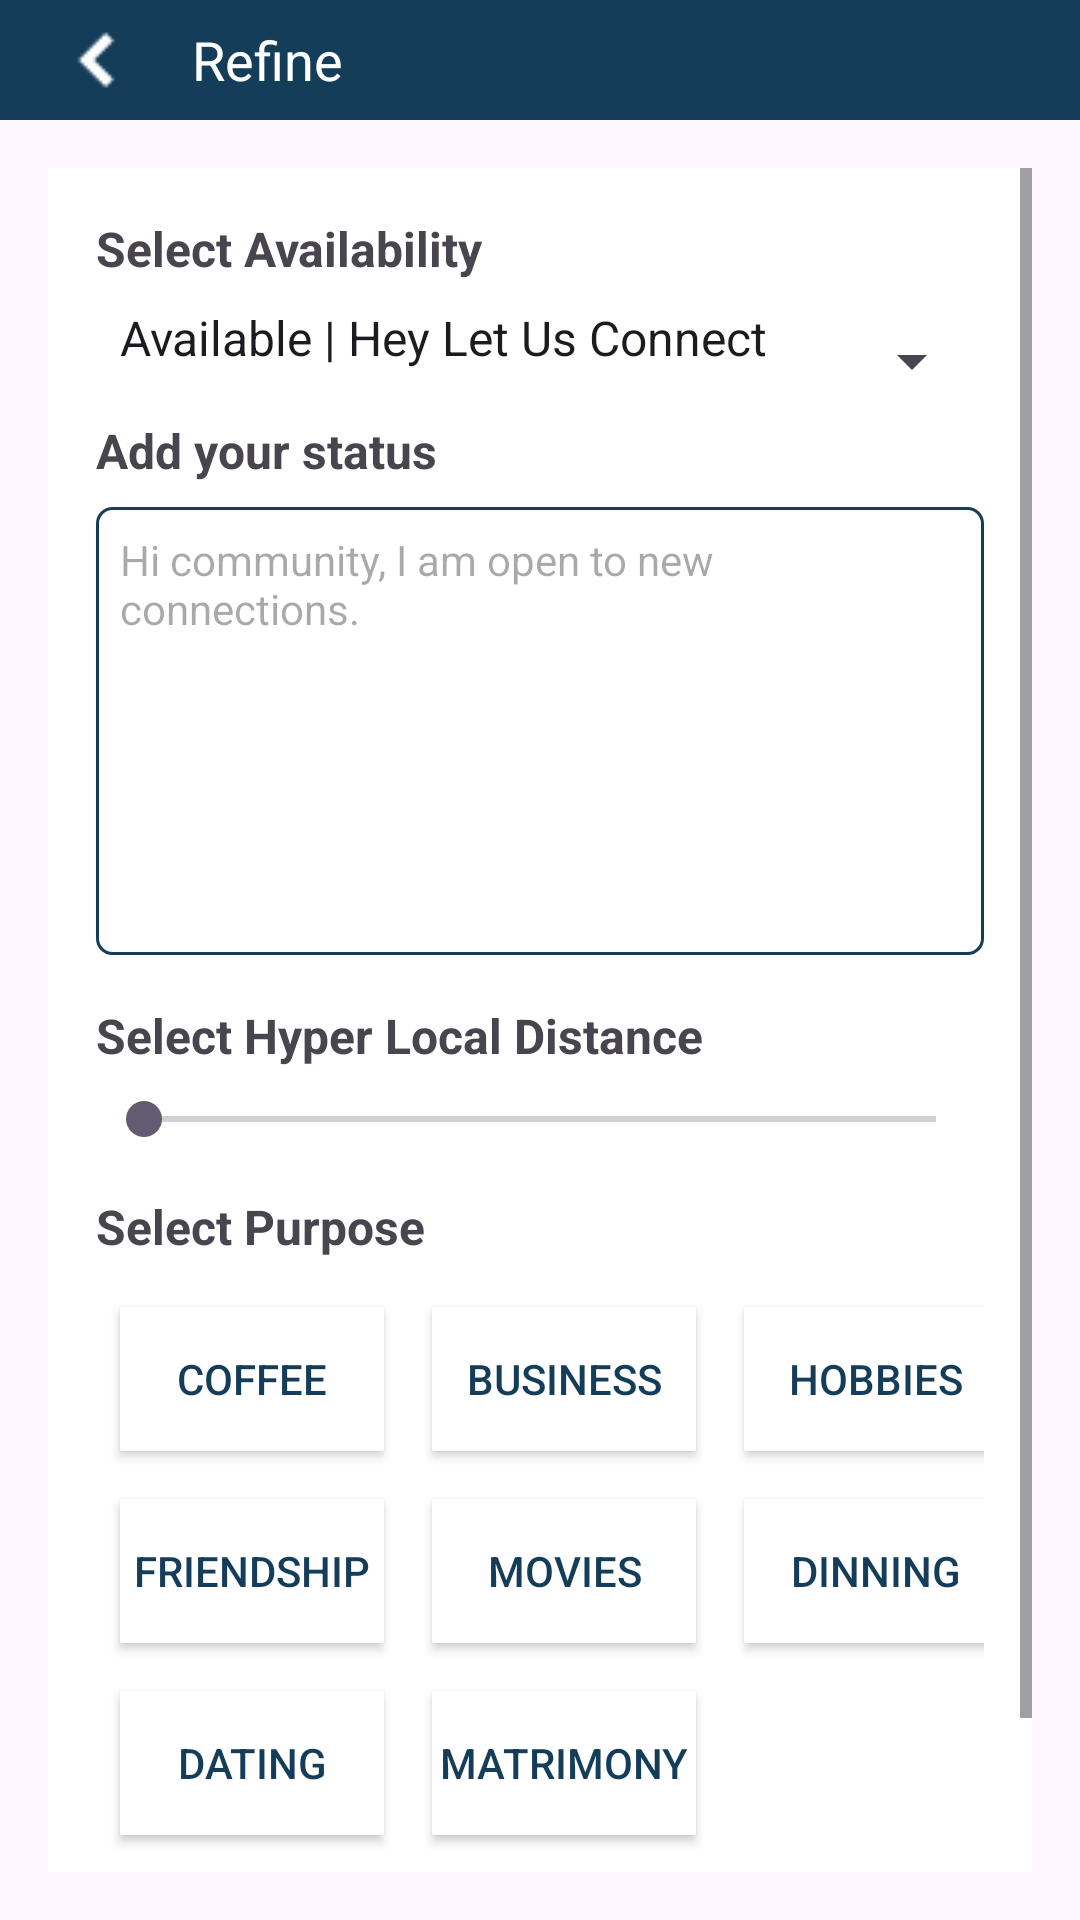

Icons on this 1080px x 1920px Android screen, each with the point to tap as (x=x, y=y):
Back Icon: (x=96, y=60)
